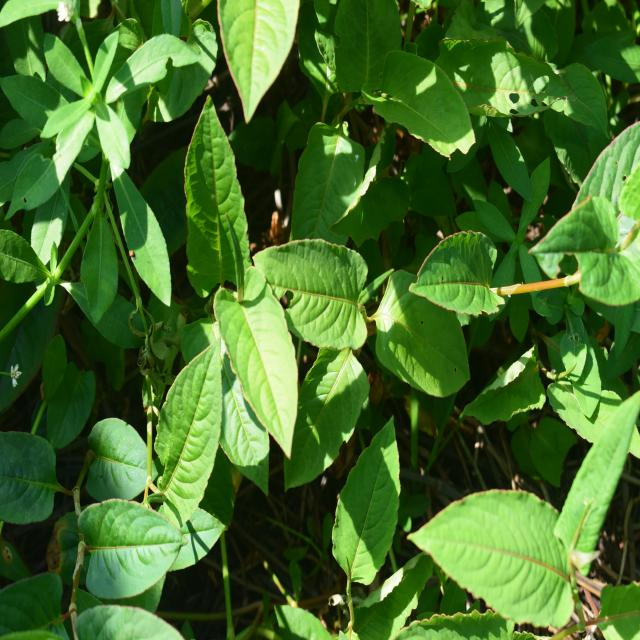Chinese_knotweed: (176, 130, 462, 446), (1, 347, 223, 640), (416, 456, 591, 630)
